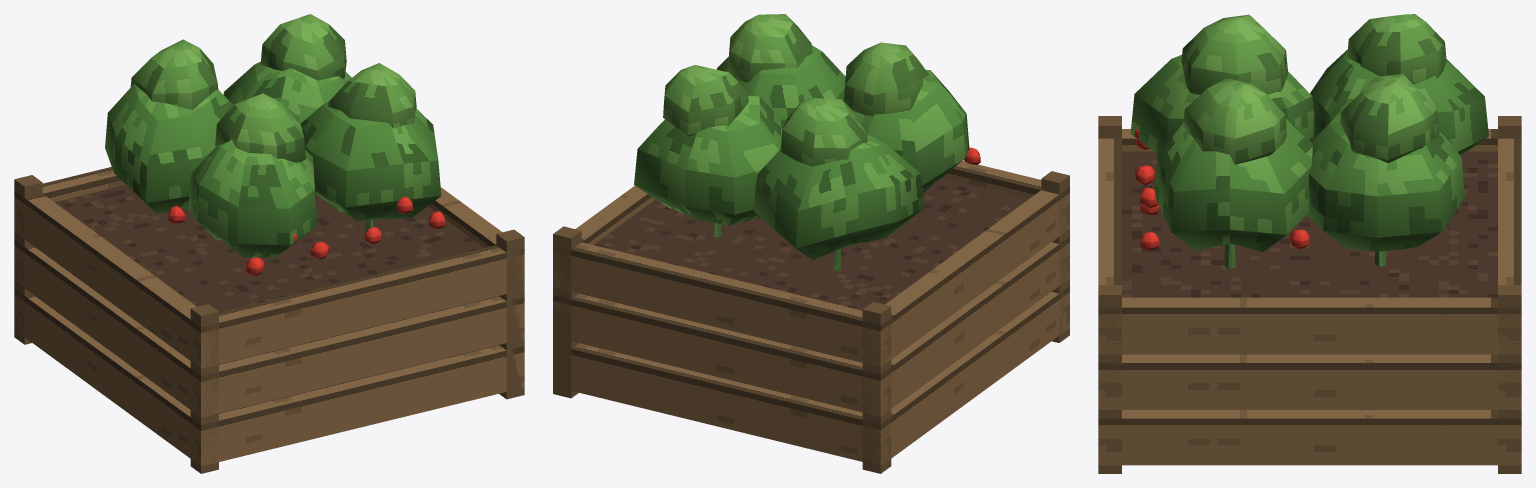
Rendered from f_planter_mature.glb.
3 views of the same model, side by side, from view 1: azimuth 30°, elevation 25°; view 2: azimuth 150°, elevation 25°; view 3: azimuth 270°, elevation 25° (orthographic). The views are drawn at different scales.
Visible parts, largest first — view 1: f_planter_mature_mesh; view 2: f_planter_mature_mesh; view 3: f_planter_mature_mesh.
Part boxes in pixels (x1=…): f_planter_mature_mesh: x1=14, y1=14, x2=524, y2=473; f_planter_mature_mesh: x1=553, y1=14, x2=1069, y2=473; f_planter_mature_mesh: x1=1098, y1=14, x2=1521, y2=473.
Bounding box in the file's own units: 0.9 × 0.81 × 0.9.
Materials: 1 (1 with a texture image).
